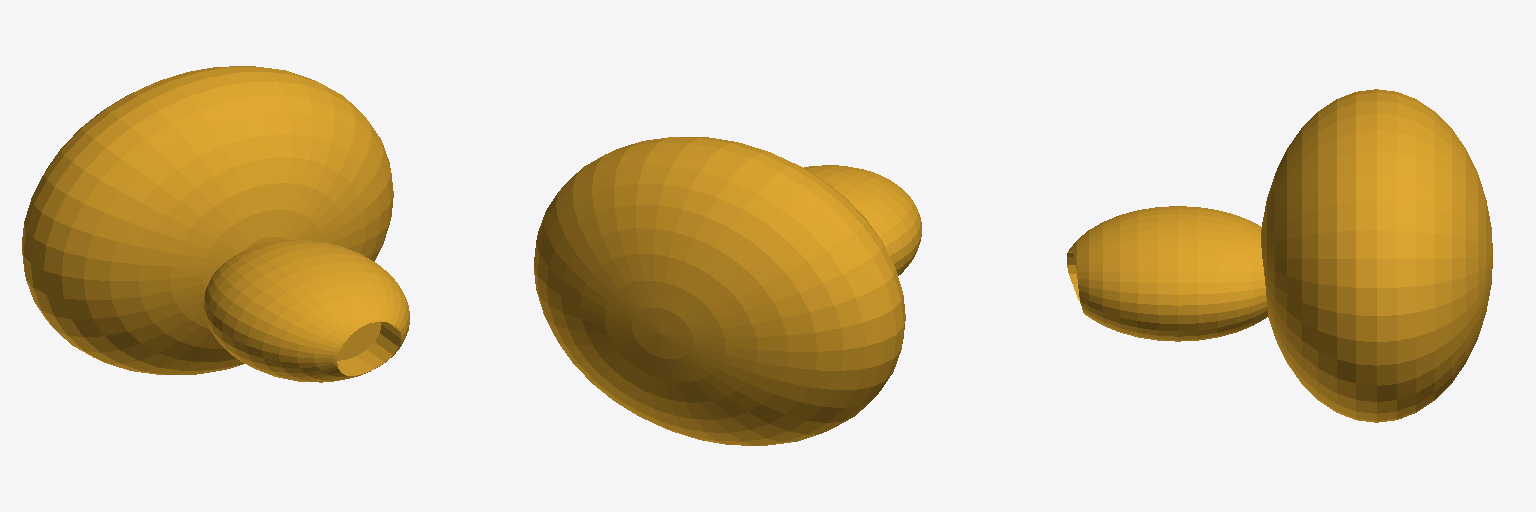
Rendered from tinker.obj.
3 renders of one model, left to right at view 1: azimuth 30°, elevation 25°; view 2: azimuth 150°, elevation 25°; view 3: azimuth 270°, elevation 25°, orthographic.
Visible parts, largest first — view 1: obj_0; view 2: obj_0; view 3: obj_0.
Part boxes in pixels (x1,y1,x2,y2): obj_0: (22,66,409,382); obj_0: (534,137,921,445); obj_0: (1067,89,1492,422).
Size of the model in its own units: 35 by 27 by 36.55.